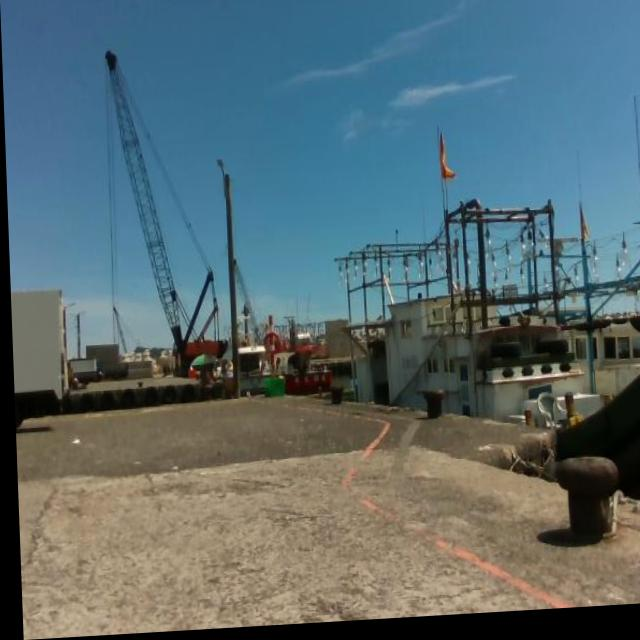pollute: (68, 437, 79, 445)
